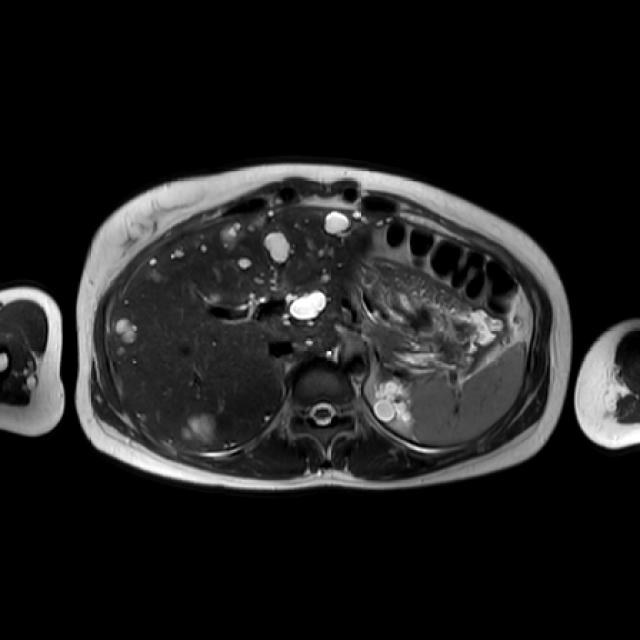sol: (372, 381, 415, 426)
